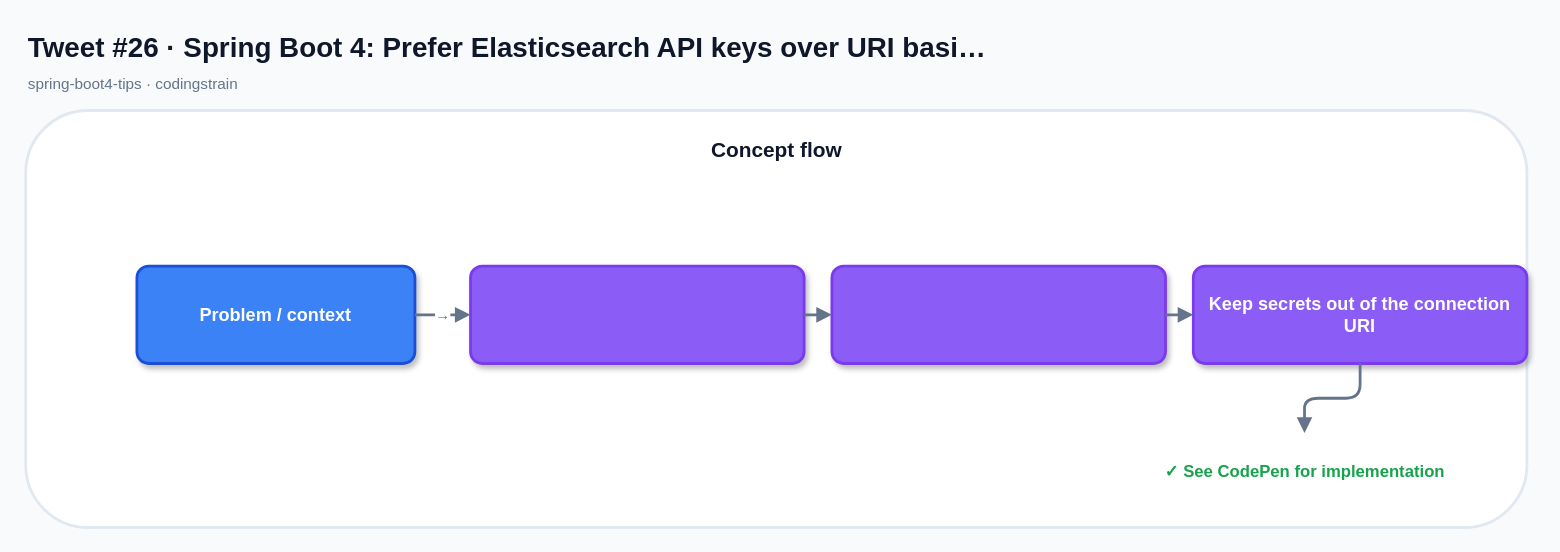
The diagram is 1560 pixels wide and 552 high, and some of its shapes have lost their labels. Here are the shapes that lost their labels. From the top down, the centre of each, then its label:
At point 638,316: "💡 Spring Boot 4: Prefer Elasticsearch API keys over URI basic auth.".
At point 999,316: "New `spring.elasticsearch.api-key` property".
